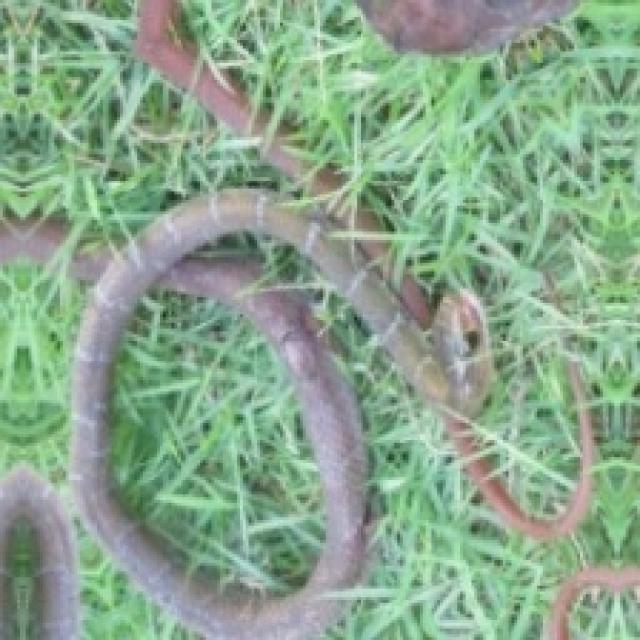reddish rat snake: (74, 0, 594, 640)
